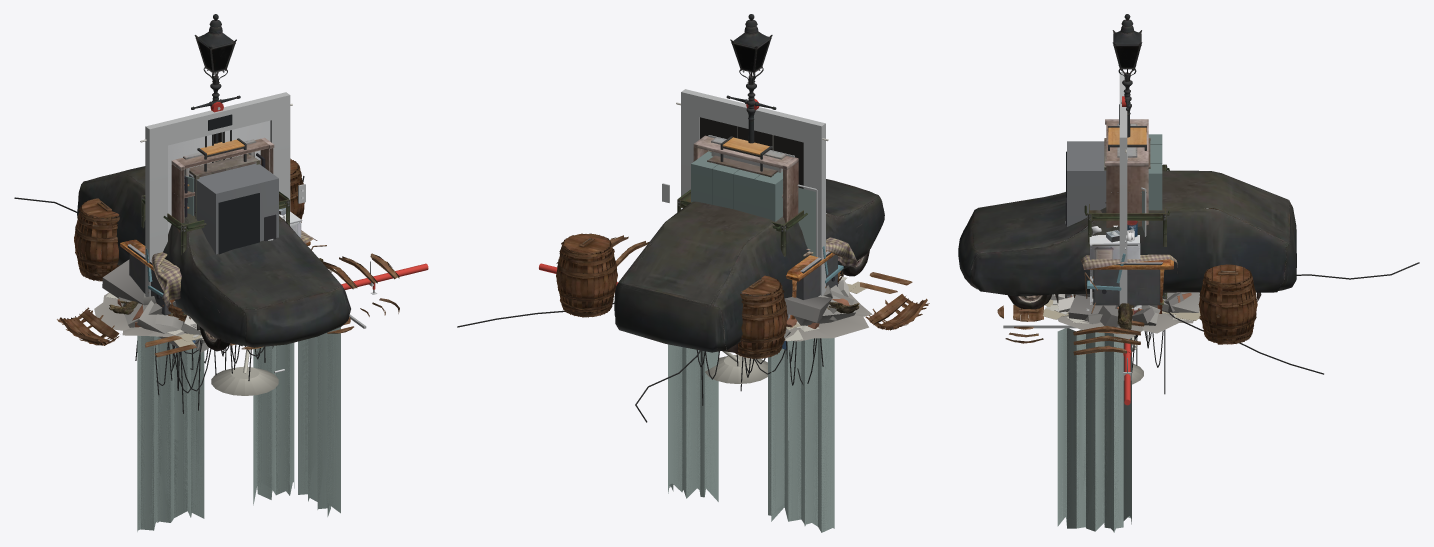
File: props.glb
3 renders of one model, left to right at view 1: azimuth 30°, elevation 25°; view 2: azimuth 150°, elevation 25°; view 3: azimuth 270°, elevation 25°, orthographic. The views are drawn at different scales.
Visible parts, largest first — view 1: covered_car|all, UF|ward|liftdoor_1, UF|ward|curtain_3, wooden_barrels_01|all, UF|ward|vending_1, UF|ward|curtain_5, UF|ward|curtain_4, UF|ward|curtain_2, UF|ward|curtain_6, UF|ward|rubble_1, wooden_bookshelf_worn|all, street_lamp_01|all (+12 smaller); view 2: covered_car|all, wooden_barrels_01|all, UF|ward|liftdoor_1, UF|ward|curtain_1, UF|ward|curtain_5, UF|ward|lockers_1, UF|ward|curtain_6, UF|ward|curtain_3, street_lamp_01|all, UF|ward|curtain_2, UF|ward|rubble_1, wooden_bookshelf_worn|all (+9 smaller); view 3: covered_car|all, UF|ward|curtain_4, wooden_barrels_01|all, UF|ward|vending_1, wooden_bookshelf_worn|all, metal_office_desk|metal_office_desk, UF|ward|liftdoor_1, UF|ward|curtain_1, CoffeeCart_01|all, street_lamp_01|all, UF|ward|rubble_2, UF|ward|rubble_3 (+9 smaller).
Boxes of the visible parts, box(x1,y1,x2,y2) form: covered_car|all: box(77, 166, 350, 351); UF|ward|liftdoor_1: box(145, 92, 305, 296); UF|ward|curtain_3: box(138, 327, 340, 524); wooden_barrels_01|all: box(57, 158, 399, 357); UF|ward|vending_1: box(189, 163, 278, 254); UF|ward|curtain_5: box(137, 326, 366, 530); UF|ward|curtain_4: box(149, 314, 365, 517); UF|ward|curtain_2: box(137, 335, 330, 518); UF|ward|curtain_6: box(137, 334, 327, 531); UF|ward|rubble_1: box(102, 245, 326, 335); wooden_bookshelf_worn|all: box(171, 137, 274, 232); street_lamp_01|all: box(191, 14, 240, 143); covered_car|all: box(614, 179, 884, 352); wooden_barrels_01|all: box(556, 233, 929, 358); UF|ward|liftdoor_1: box(662, 89, 825, 295); UF|ward|curtain_1: box(668, 338, 834, 528); UF|ward|curtain_5: box(669, 338, 832, 532); UF|ward|lockers_1: box(691, 159, 782, 221); UF|ward|curtain_6: box(668, 341, 819, 524); UF|ward|curtain_3: box(668, 338, 817, 525); street_lamp_01|all: box(726, 14, 776, 143); UF|ward|curtain_2: box(669, 340, 804, 521); UF|ward|rubble_1: box(784, 279, 872, 337); wooden_bookshelf_worn|all: box(693, 135, 798, 222); covered_car|all: box(958, 170, 1296, 309); UF|ward|curtain_4: box(1003, 325, 1130, 519); wooden_barrels_01|all: box(997, 208, 1257, 355); UF|ward|vending_1: box(1065, 141, 1106, 298); wooden_bookshelf_worn|all: box(1105, 119, 1148, 227); metal_office_desk|metal_office_desk: box(1093, 262, 1162, 305); UF|ward|liftdoor_1: box(1119, 72, 1127, 305); UF|ward|curtain_1: box(1003, 326, 1130, 526); CoffeeCart_01|all: box(1086, 220, 1141, 313); street_lamp_01|all: box(1112, 14, 1142, 137); UF|ward|rubble_2: box(1050, 292, 1193, 339); UF|ward|rubble_3: box(1057, 292, 1199, 329).
Bounding box in the file's own units: 5.22 × 6.8 × 5.96.
Materials: 170 (117 with a texture image).
